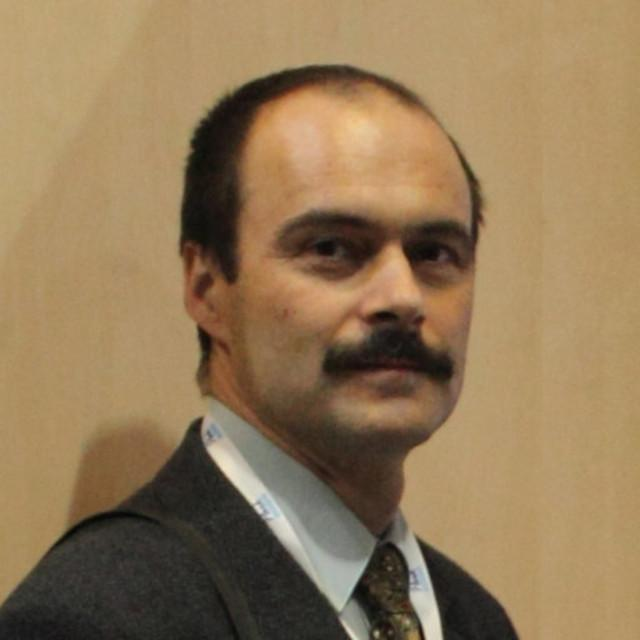mezczyzna: (179, 64, 481, 640)
